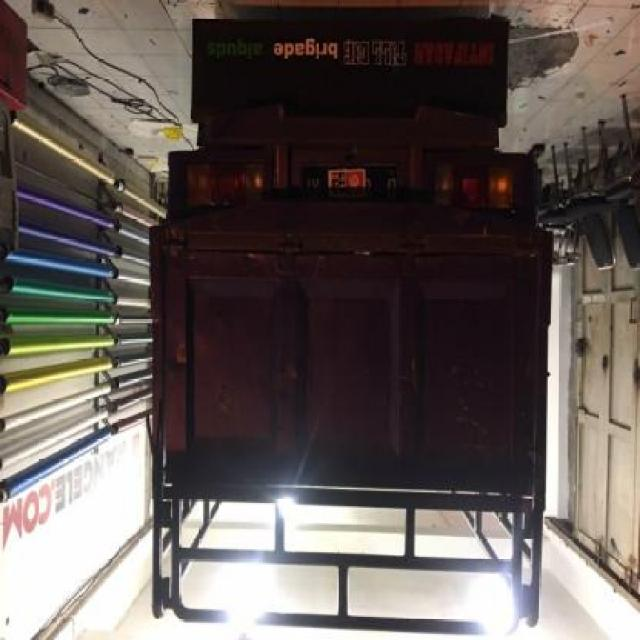truck: (152, 10, 553, 640)
